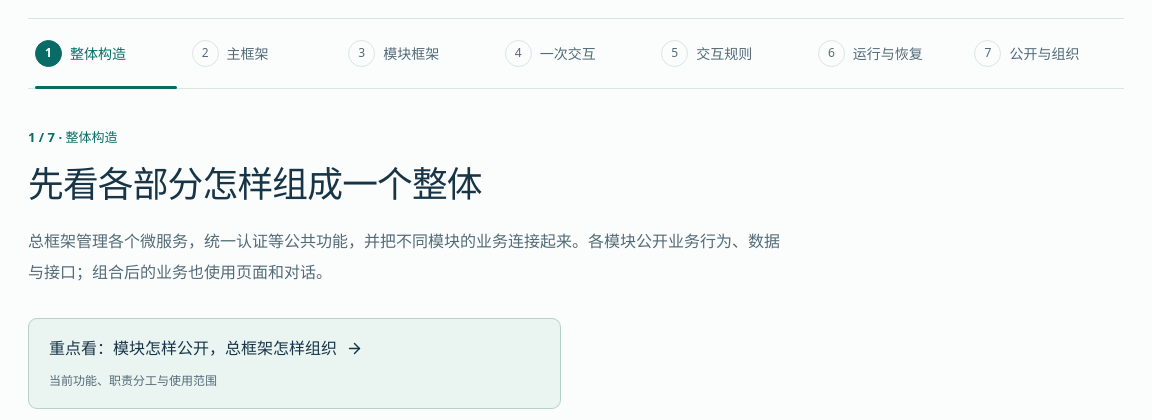
Test: framework structure explanation › shows permission without inventing a successful write
Click the button "4 一次交互" at (576, 54), box left=498, top=19, right=654, bottom=88
(page scrolled)
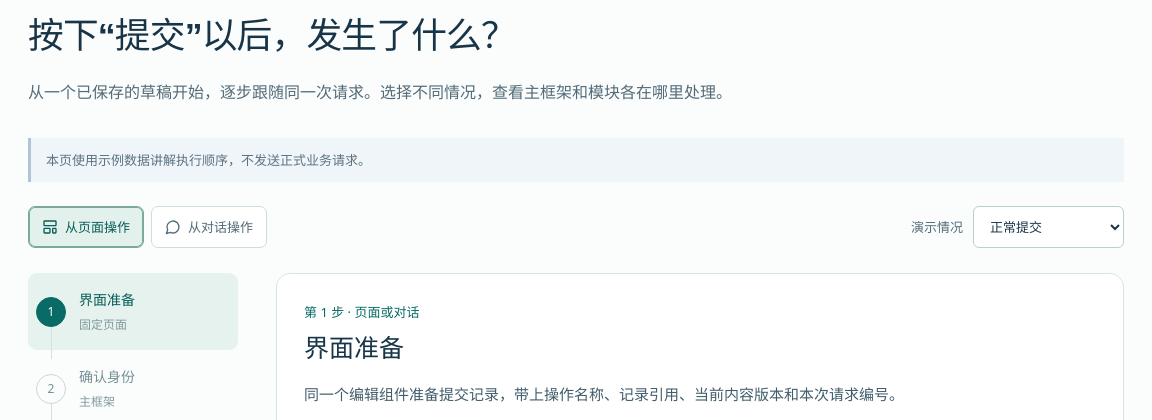
Select "没有办理权限" in the dropdown labelled "演示情况" at (1048, 227), box left=973, top=206, right=1124, bottom=248
(page scrolled)
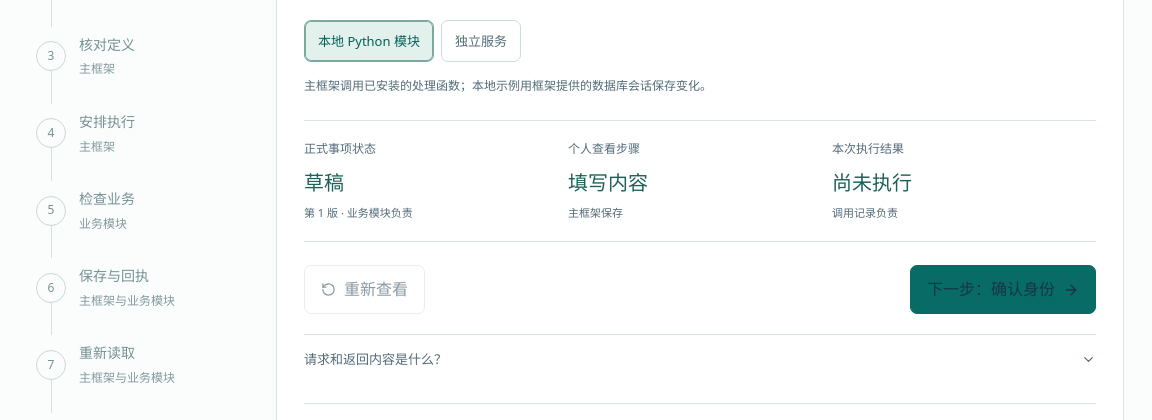
Click the button "下一步：确认身份" at (1003, 290), box left=910, top=265, right=1096, bottom=314
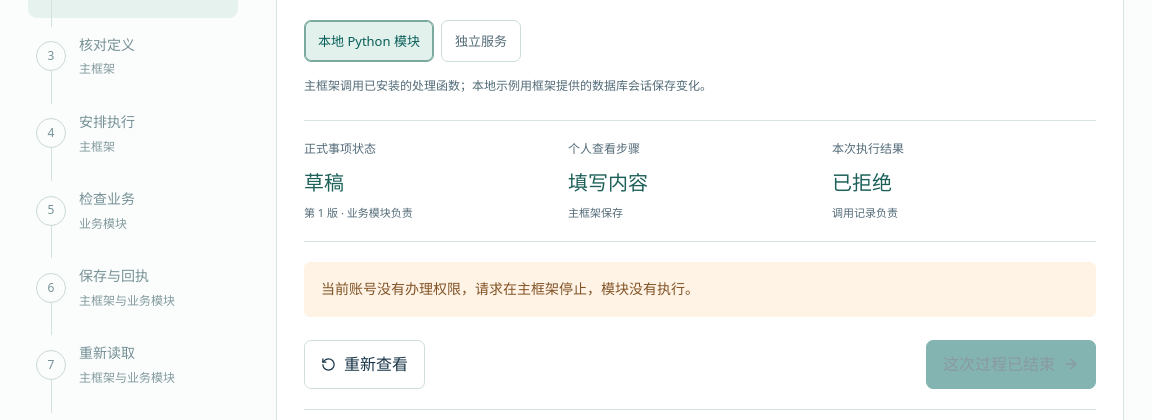
expect the text "草稿" is shown: met, box left=304, top=170, right=344, bottom=196
expect the text "已拒绝" is shown: met, box left=832, top=170, right=892, bottom=196
expect the button "这次过程已结束" is disabled: met, box left=926, top=340, right=1096, bottom=389
